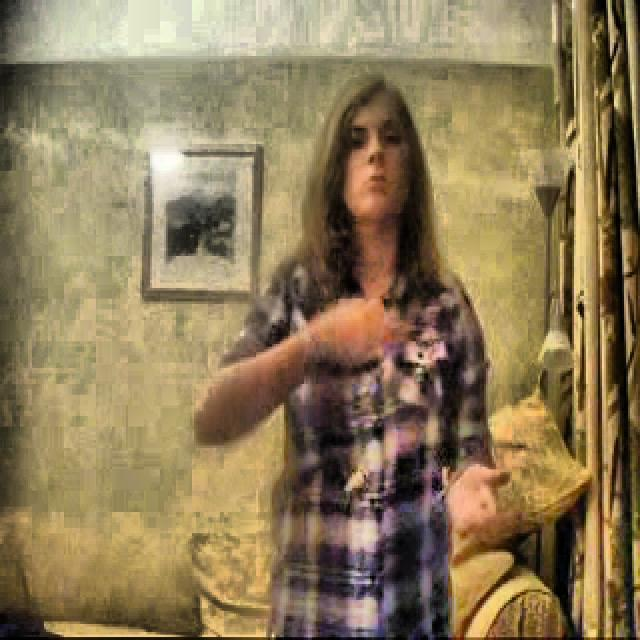F: (195, 76, 494, 636)
